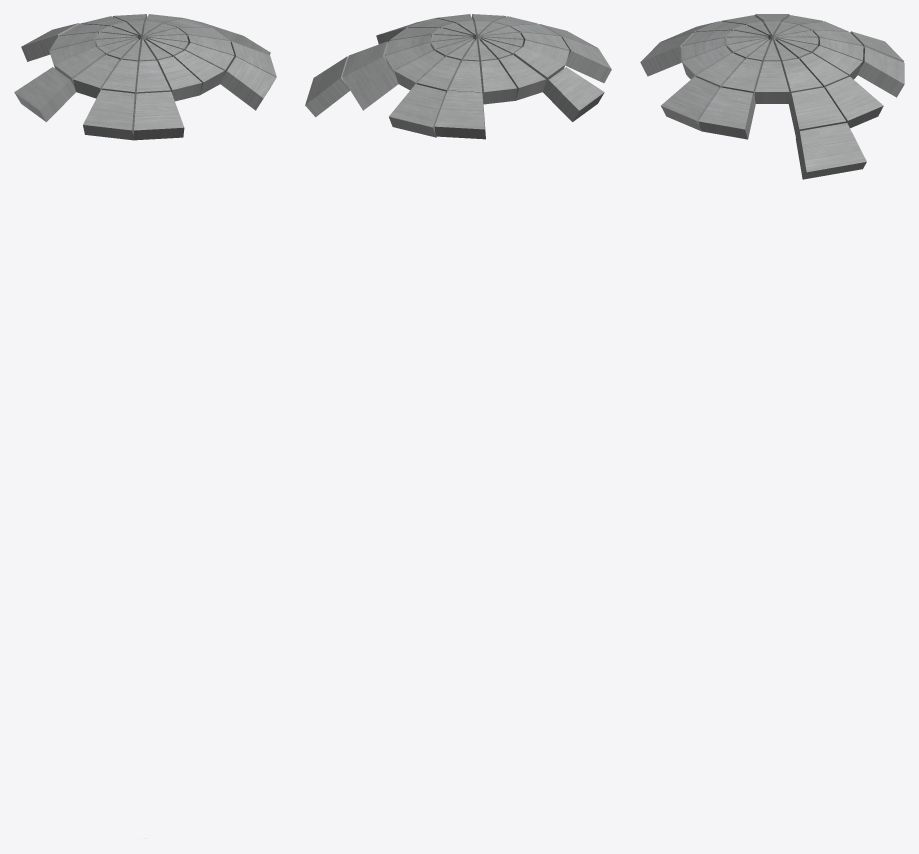
Rendered from modularParts.glb.
3 renders of one model, left to right at view 1: azimuth 30°, elevation 25°; view 2: azimuth 150°, elevation 25°; view 3: azimuth 270°, elevation 25°, orthographic.
Visible parts, largest first — view 1: parts.026, parts.030, parts.027, parts.022, parts.028, parts.023, parts.024, parts.025, parts.031, parts.016, parts.017, parts.020; view 2: parts.030, parts.031, parts.028, parts.017, parts.019, parts.016, parts.027, parts.021, parts.026, parts.022, parts.023, parts.025 (+1 smaller); view 3: parts.017, parts.022, parts.026, parts.016, parts.019, parts.031, parts.020, parts.024, parts.023, parts.028, parts.030, parts.021 (+1 smaller).
Boxes of the visible parts, x1,y1,x2,y2 form: parts.026: (101, 37, 276, 140); parts.030: (14, 24, 137, 121); parts.027: (83, 38, 183, 140); parts.022: (144, 34, 276, 94); parts.028: (21, 23, 138, 86); parts.023: (122, 39, 234, 93); parts.024: (158, 35, 234, 101); parts.025: (73, 39, 155, 98); parts.031: (49, 16, 138, 50); parts.016: (112, 14, 242, 44); parts.017: (127, 14, 270, 55); parts.020: (144, 23, 229, 40); parts.030: (448, 38, 604, 121); parts.031: (389, 39, 517, 137); parts.028: (434, 37, 564, 139); parts.017: (305, 38, 473, 117); parts.019: (342, 34, 431, 110); parts.016: (342, 39, 474, 90); parts.027: (475, 21, 611, 82); parts.021: (416, 28, 473, 92); parts.026: (435, 14, 597, 50); parts.022: (376, 14, 507, 44); parts.023: (437, 14, 559, 39); parts.025: (480, 26, 569, 68); parts.017: (776, 38, 866, 179); parts.022: (682, 37, 770, 139); parts.026: (640, 21, 768, 131); parts.016: (777, 37, 862, 137); parts.019: (782, 58, 883, 128); parts.031: (776, 21, 904, 97); parts.020: (755, 39, 797, 103); parts.024: (681, 37, 762, 98); parts.023: (682, 25, 769, 87); parts.028: (747, 14, 904, 62); parts.030: (754, 15, 862, 45); parts.021: (764, 38, 863, 61).
Bounding box in the file's own units: 1.51 × 4.44 × 1.33.
Materials: 1 (1 with a texture image).
